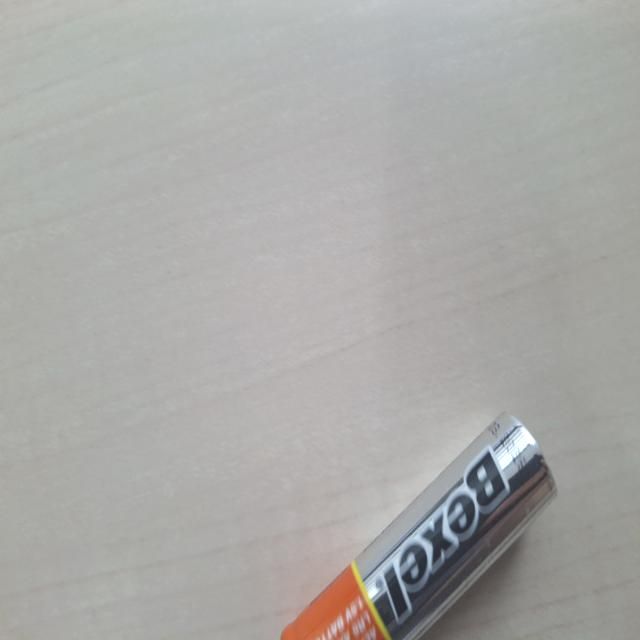AA: (310, 111, 480, 479)
